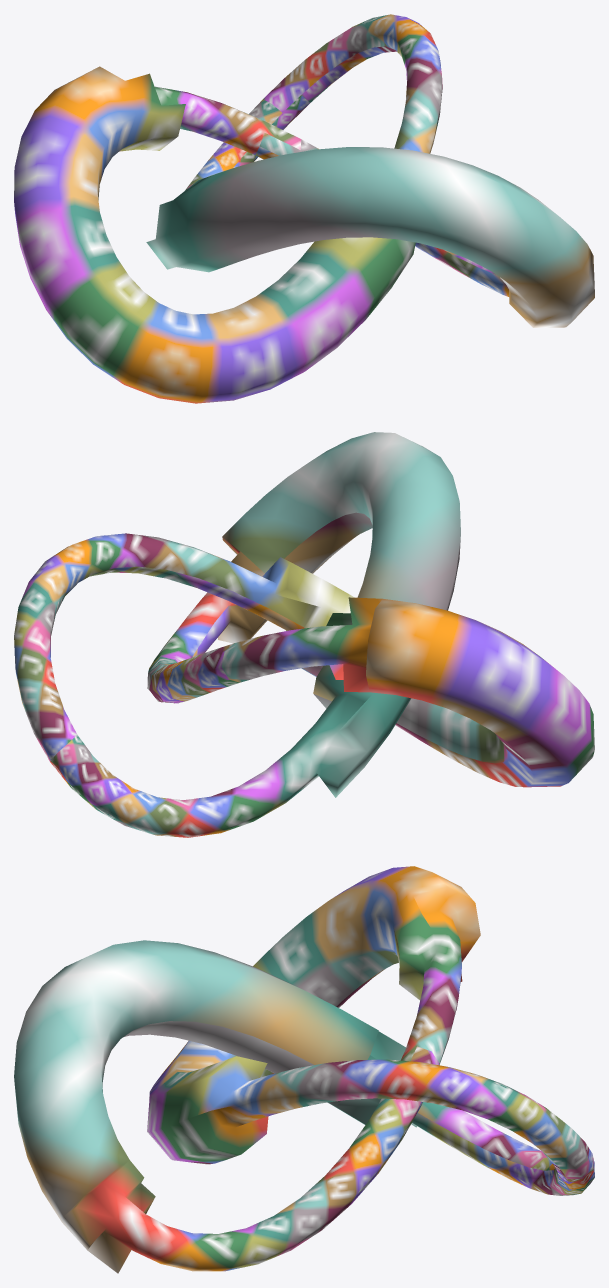
The model's file is knot.obj.
3 renders of one model, top to bottom at view 1: azimuth 30°, elevation 25°; view 2: azimuth 150°, elevation 25°; view 3: azimuth 270°, elevation 25°, orthographic. The views are drawn at different scales.
Parts seen in each view (by area): view 1: knot1; view 2: knot1; view 3: knot1.
Part boxes in pixels (x1,y1,x2,y2): knot1: [14, 14, 594, 403]; knot1: [14, 432, 594, 837]; knot1: [14, 866, 594, 1273].
Size of the model in its own units: 2.9 by 1.48 by 3.07.
1 material, 1 textured.
